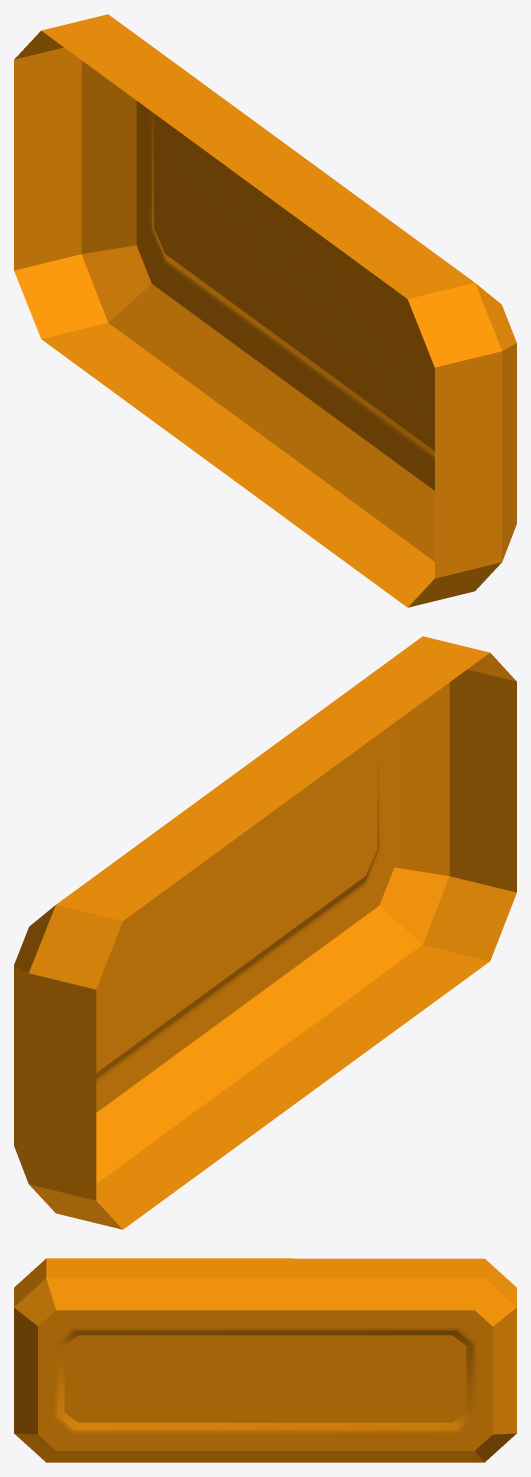
File: Building_Lamp_02a_snaps016.fbx
The picture shows the model from 3 angles, top to bottom: view 1: azimuth 30°, elevation 25°; view 2: azimuth 150°, elevation 25°; view 3: azimuth 270°, elevation 25°; orthographic projection. The views are drawn at different scales.
Parts seen in each view (by area): view 1: Building_lamp_02a_snaps016_LOD0; view 2: Building_lamp_02a_snaps016_LOD0; view 3: Building_lamp_02a_snaps016_LOD0.
Boxes of the visible parts, x1,y1,x2,y2 form: Building_lamp_02a_snaps016_LOD0: (14,14,516,607); Building_lamp_02a_snaps016_LOD0: (14,636,516,1229); Building_lamp_02a_snaps016_LOD0: (14,1258,516,1462).
Size of what is drawn, in the model's own units: 0.088 by 0.2528 by 0.6248.
